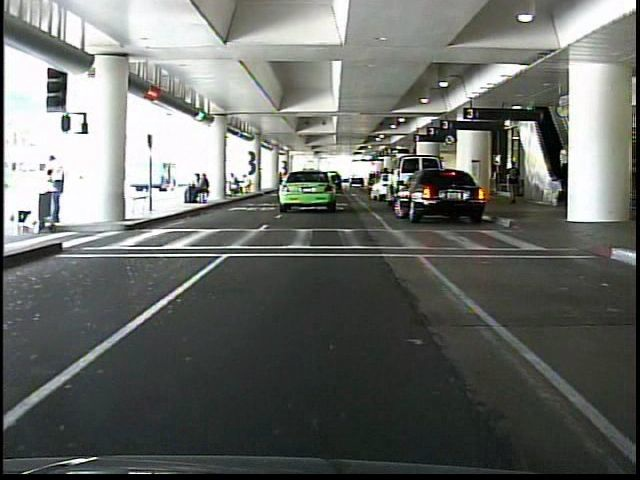person: (40, 152, 73, 229), (504, 158, 523, 208)
